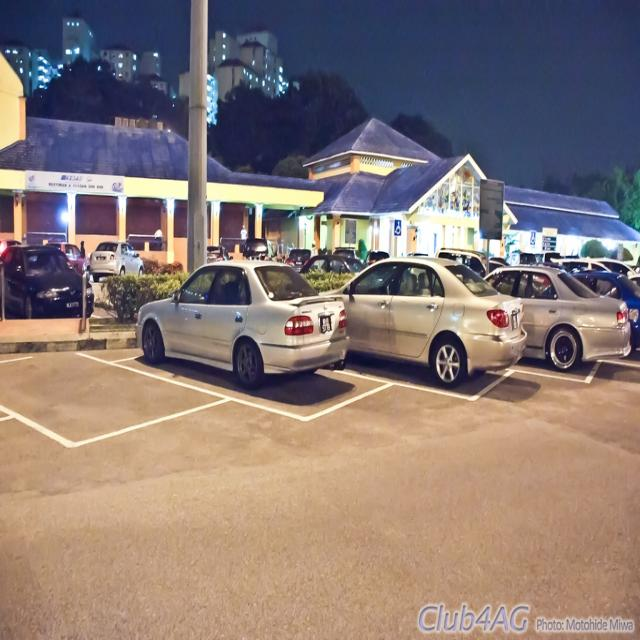car: (318, 252, 526, 388), (136, 261, 350, 386), (482, 261, 632, 369), (575, 273, 639, 361), (201, 245, 230, 263)
